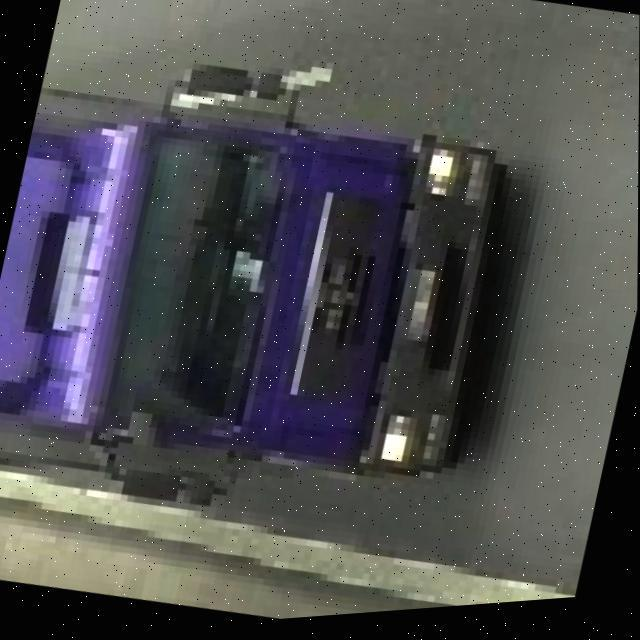truck: (0, 7, 542, 571)
